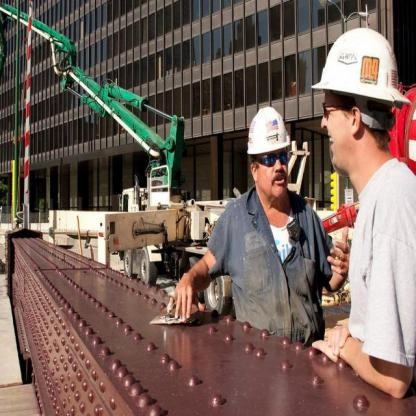white: (306, 22, 414, 108), (241, 103, 294, 160)
